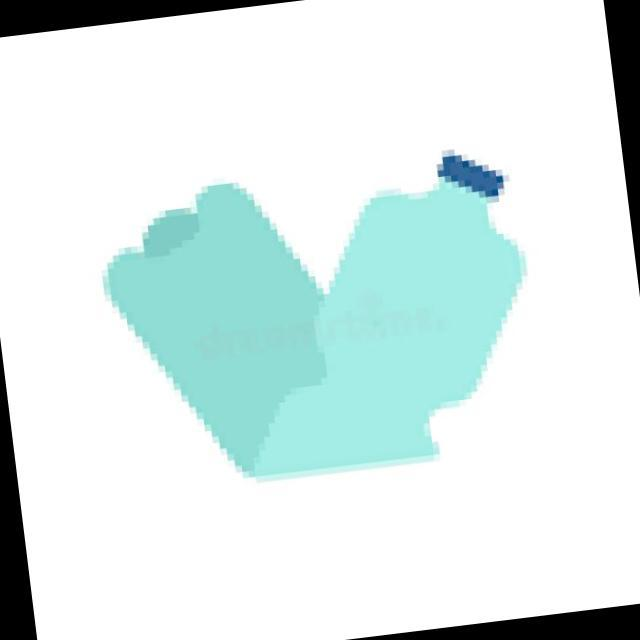defected: (63, 113, 565, 530)
